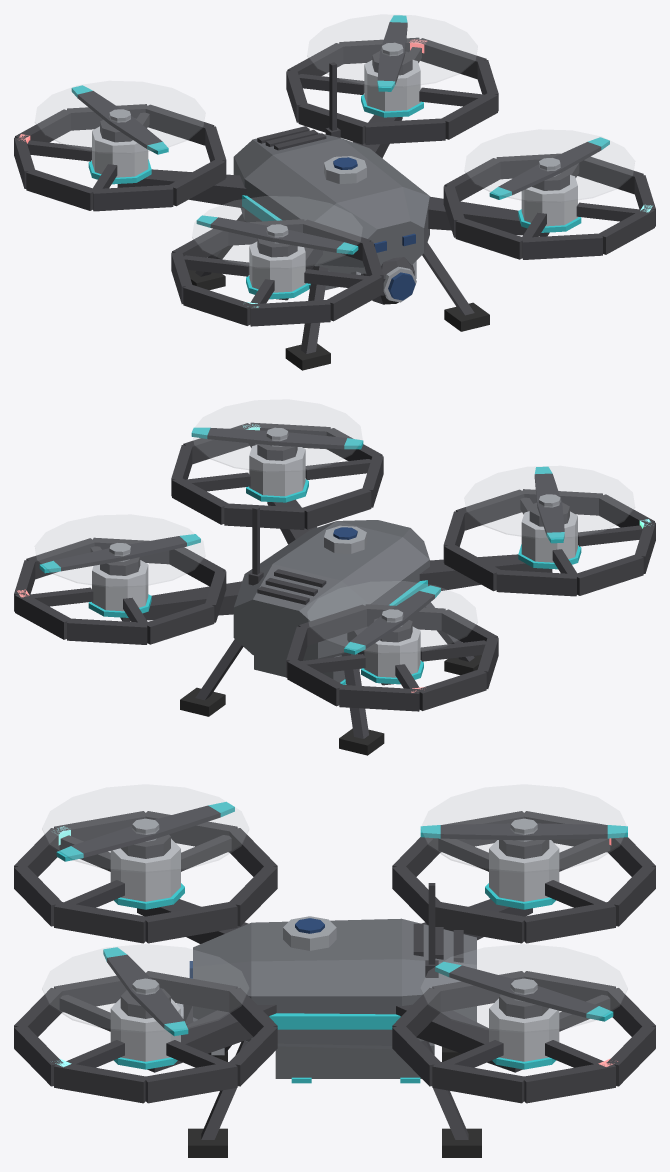
File: drone.glb
3 renders of one model, top to bottom at view 1: azimuth 30°, elevation 25°; view 2: azimuth 150°, elevation 25°; view 3: azimuth 270°, elevation 25°, orthographic. The views are drawn at different scales.
Visible parts, largest first — view 1: DroneBody, PropBlur_BL, PropBlur_FR, PropBlur_FL, PropBlur_BR, Prop_FL, Prop_FR, Prop_BL, Prop_BR; view 2: DroneBody, PropBlur_FR, PropBlur_FL, PropBlur_BR, PropBlur_BL, Prop_FR, Prop_BR, Prop_BL, Prop_FL; view 3: DroneBody, PropBlur_FR, PropBlur_BR, PropBlur_BL, PropBlur_FL, Prop_BL, Prop_BR, Prop_FL, Prop_FR.
Part boxes in pixels (box(x1,y1,x2,y2)): DroneBody: box(14, 37, 655, 370); PropBlur_BL: box(35, 81, 204, 153); PropBlur_FR: box(465, 130, 634, 202); PropBlur_FL: box(192, 196, 362, 268); PropBlur_BR: box(307, 15, 477, 86); Prop_FL: box(196, 215, 358, 254); Prop_FR: box(489, 137, 609, 199); Prop_BL: box(71, 85, 168, 154); Prop_BR: box(377, 15, 407, 91); DroneBody: box(14, 422, 655, 755); PropBlur_FR: box(192, 400, 362, 471); PropBlur_FL: box(465, 466, 634, 538); PropBlur_BR: box(35, 515, 204, 587); PropBlur_BL: box(307, 581, 477, 653); Prop_FR: box(191, 427, 363, 449); Prop_BR: box(39, 534, 200, 573); Prop_BL: box(344, 585, 440, 654); Prop_FL: box(534, 466, 564, 543); DroneBody: box(14, 811, 655, 1157); PropBlur_FR: box(42, 944, 248, 1032); PropBlur_BR: box(421, 944, 627, 1032); PropBlur_BL: box(421, 785, 627, 872); PropBlur_FL: box(42, 785, 248, 872); Prop_BL: box(420, 818, 627, 841); Prop_BR: box(435, 961, 613, 1021); Prop_FL: box(56, 801, 234, 861); Prop_FR: box(103, 947, 188, 1036).
Bounding box in the file's own units: 0.3839 × 0.159 × 0.3839.
